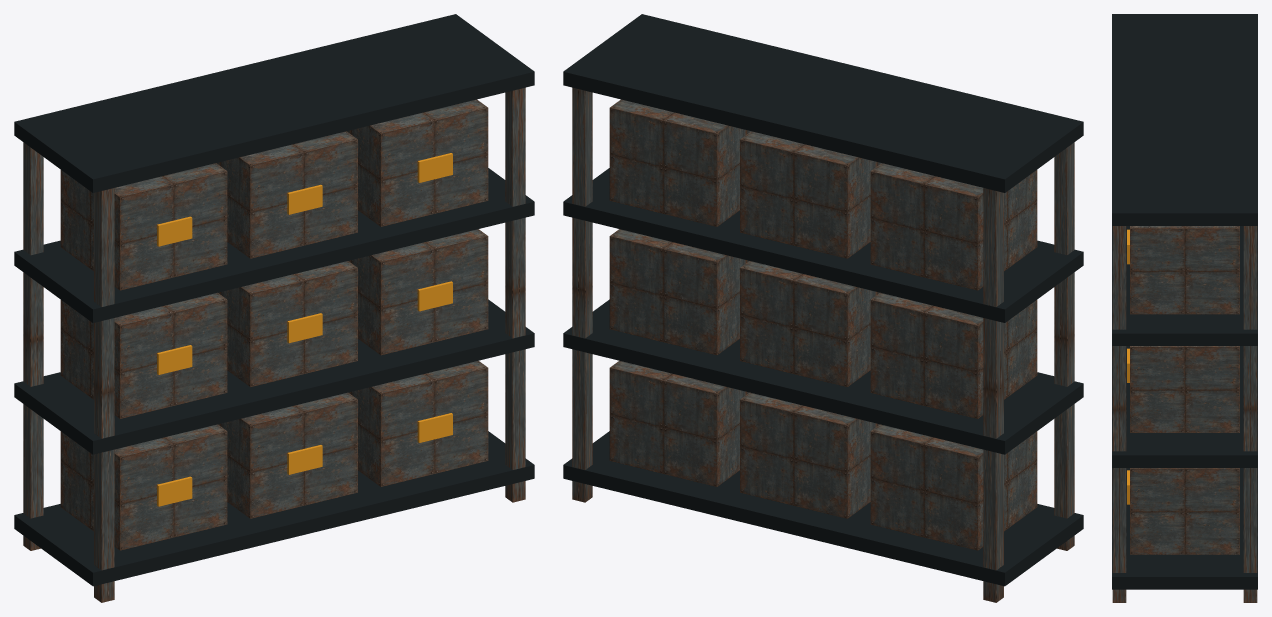
Rendered from StorageRack.obj.
3 renders of one model, left to right at view 1: azimuth 30°, elevation 25°; view 2: azimuth 150°, elevation 25°; view 3: azimuth 270°, elevation 25°, orthographic. The views are drawn at different scales.
Parts seen in each view (by area): view 1: StorageRack; view 2: StorageRack; view 3: StorageRack.
Part boxes in pixels (x1,y1,x2,y2): StorageRack: (14,14,534,602); StorageRack: (563,14,1083,602); StorageRack: (1112,14,1257,602).
Bounding box in the file's own units: 2.88 × 2.65 × 0.89.
Materials: 4 (2 with a texture image).
